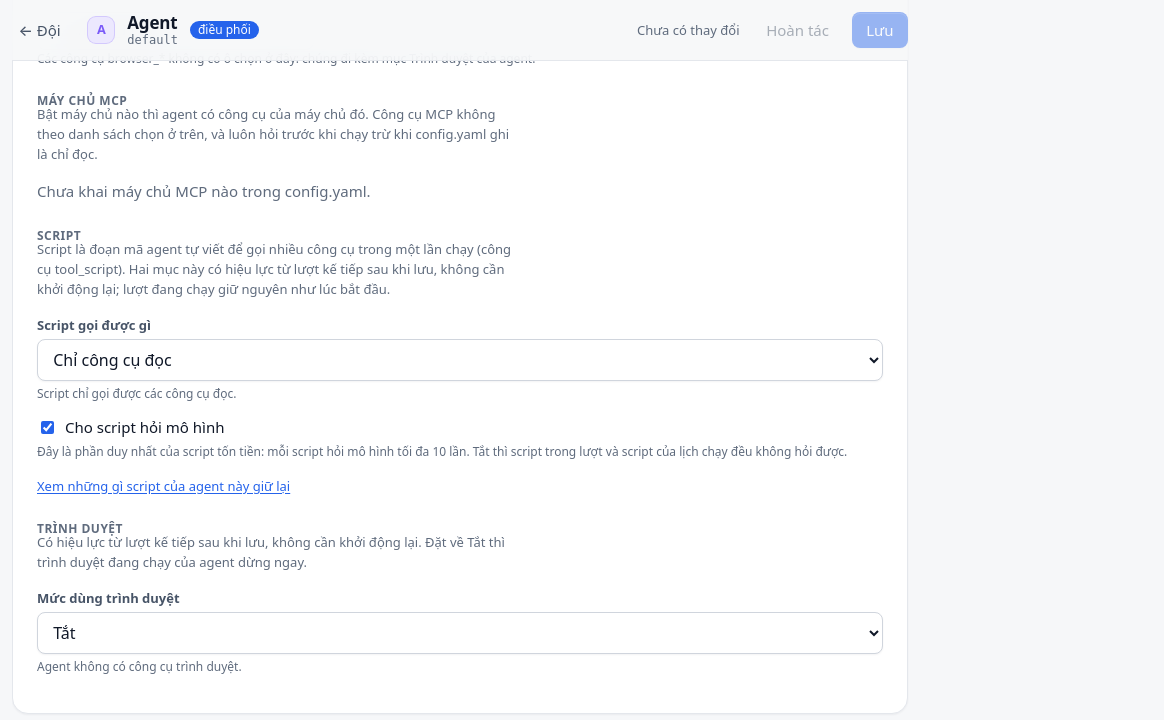
the line under the autonomy tick that says nobody will be asked › appears when scripts are let change things on an agent that already runs by itself
This screenshot has width=1164, height=720.
(page scrolled)
Select "Cả công cụ thay đổi dữ liệu" in the dropdown labelled "Script gọi được gì" at {"x": 460, "y": 360}, box [37,339,883,381]
(page scrolled)
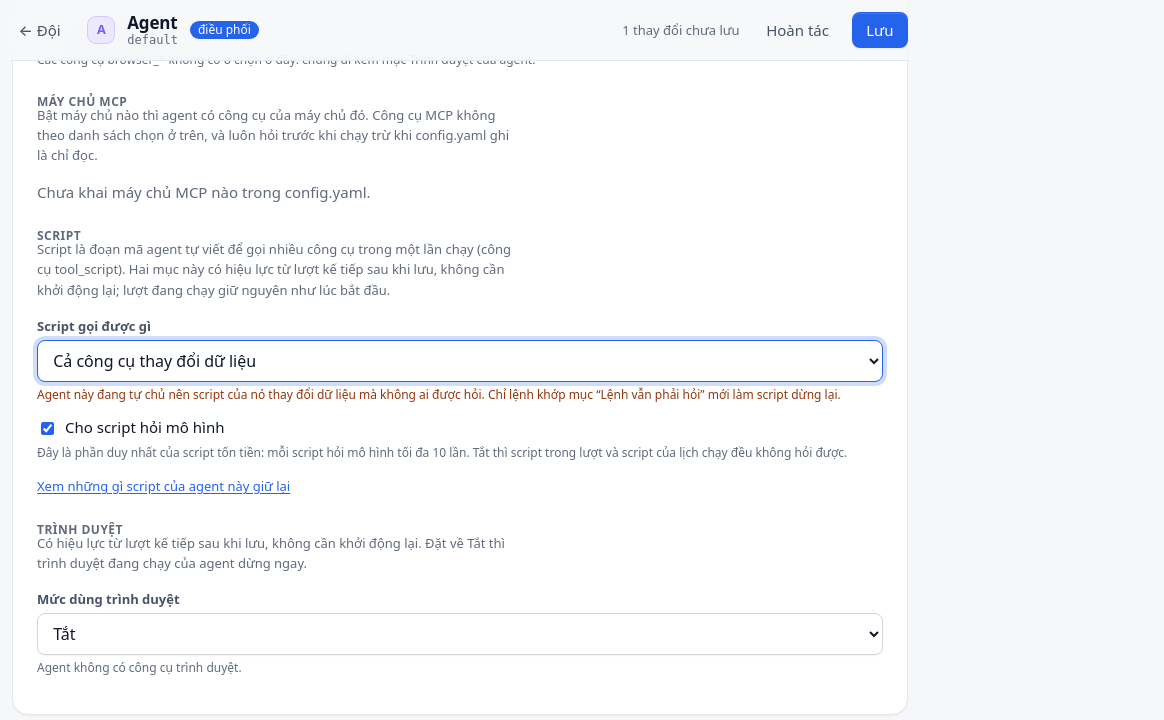
Select "Không dùng script" in the dropdown labelled "Script gọi được gì" at {"x": 460, "y": 361}, box [37,340,883,382]
(page scrolled)
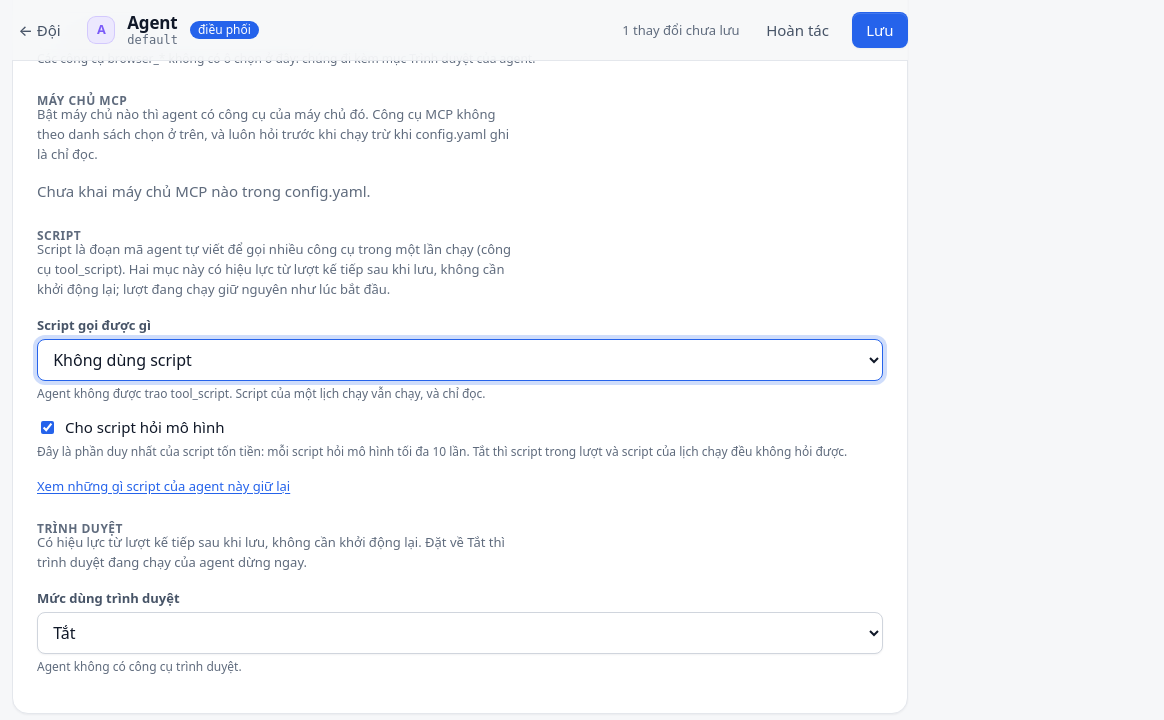
Check: the text "Agent này đang tự chủ nên script của nó thay đổi dữ liệu mà không ai được hỏi. Chỉ lệnh khớp mục “Lệnh vẫn phải hỏi” mới" is gone
